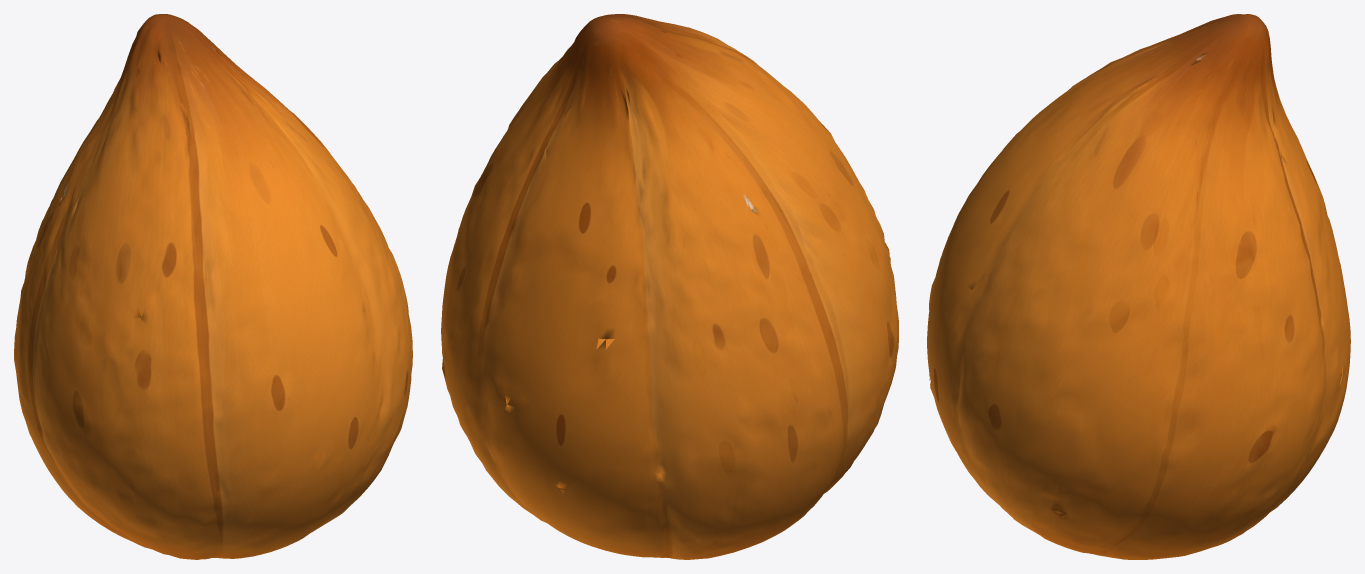
File: seed.fbx
3 views of the same model, side by side, from view 1: azimuth 30°, elevation 25°; view 2: azimuth 150°, elevation 25°; view 3: azimuth 270°, elevation 25° (orthographic). The views are drawn at different scales.
Parts seen in each view (by area): view 1: Mesh_0; view 2: Mesh_0; view 3: Mesh_0.
Boxes of the visible parts, <box> form: Mesh_0: <box>14,14,412,559</box>; Mesh_0: <box>441,14,898,559</box>; Mesh_0: <box>927,14,1350,559</box>.
Size of the model in its own units: 69.58 by 95.07 by 70.02.
Materials: 1 (1 with a texture image).
